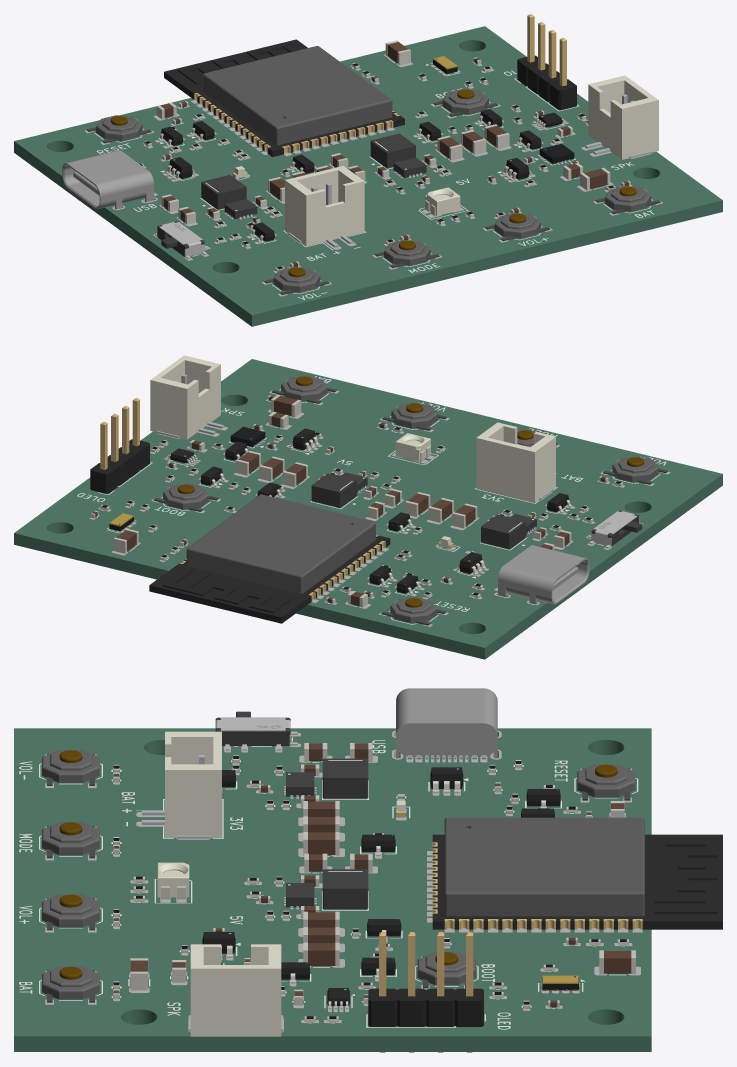
Rendered from assembly.glb.
3 renders of one model, top to bottom at view 1: azimuth 30°, elevation 25°; view 2: azimuth 150°, elevation 25°; view 3: azimuth 270°, elevation 25°, orthographic. The views are drawn at different scales.
Parts seen in each view (by area): view 1: =>[0:1:1:25], U3, housing (×2), =>[0:1:1:22], J2, J4, =>[0:1:1:23], SW1, L2, L1, SW4, SW6 (+8 smaller); view 2: =>[0:1:1:25], U3, housing (×2), J2, =>[0:1:1:22], J4, =>[0:1:1:23], L1, L2, SW1, SW6, SW2 (+5 smaller); view 3: =>[0:1:1:25], U3, housing (×2), J2, =>[0:1:1:22], J4, =>[0:1:1:23], SW1, L1, L2, SW2, SW6 (+20 smaller).
Boxes of the visible parts, x1,y1,x2,y2 form: =>[0:1:1:25]: (14, 26, 722, 326); U3: (164, 39, 404, 156); housing (×2): (285, 75, 658, 246); =>[0:1:1:22]: (84, 54, 663, 296); J2: (62, 150, 153, 209); J4: (517, 14, 576, 109); =>[0:1:1:23]: (94, 58, 654, 299); SW1: (155, 221, 208, 259); L2: (370, 133, 415, 168); L1: (201, 175, 246, 209); SW4: (264, 266, 329, 294); SW6: (485, 213, 549, 241); =>[0:1:1:25]: (14, 359, 722, 659); U3: (149, 494, 390, 623); housing (×2): (150, 355, 555, 502); J2: (498, 545, 589, 604); =>[0:1:1:22]: (89, 379, 670, 627); J4: (90, 398, 149, 493); =>[0:1:1:23]: (77, 376, 666, 624); L1: (481, 514, 526, 549); L2: (311, 473, 356, 507); SW1: (587, 510, 642, 548); SW6: (382, 402, 446, 430); SW2: (381, 597, 445, 625); =>[0:1:1:25]: (14, 728, 651, 1051); U3: (432, 817, 722, 929); housing (×2): (165, 731, 281, 1036); J2: (396, 688, 497, 759); =>[0:1:1:22]: (45, 730, 642, 1032); J4: (368, 932, 483, 1052); =>[0:1:1:23]: (19, 737, 638, 1029); SW1: (215, 711, 297, 750); L1: (322, 758, 368, 798); L2: (322, 869, 368, 909); SW2: (577, 764, 635, 800); SW6: (42, 894, 99, 930).
Bounding box in the file's own units: 0.0655 × 0.0115 × 0.0623.
